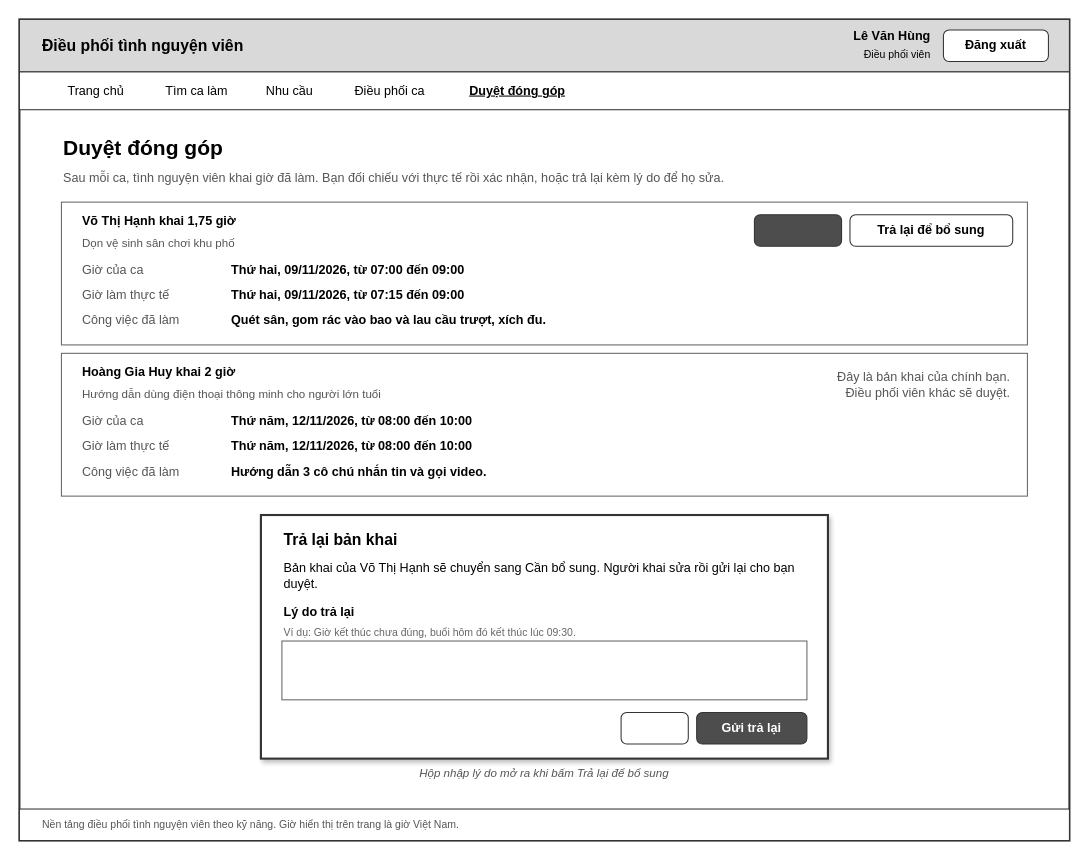
This 1088x859 diagram has some shape labels left out. The shapes that lost their labels are listed below. From the top down, each one's centre as x and y in pixels, then its label:
At point 797,230: "Xác nhận".
At point 654,727: "Thôi".
